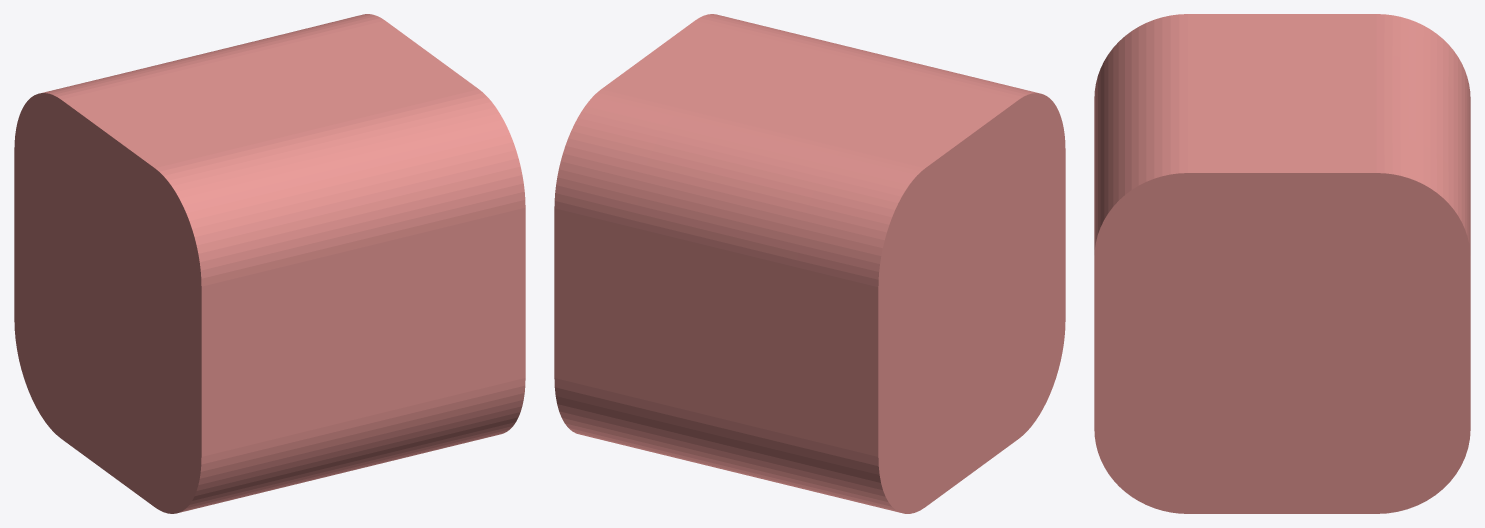
The model's file is taffy_body.dae.
The picture shows the model from 3 angles, left to right: view 1: azimuth 30°, elevation 25°; view 2: azimuth 150°, elevation 25°; view 3: azimuth 270°, elevation 25°; orthographic projection.
Parts seen in each view (by area): view 1: Cube; view 2: Cube; view 3: Cube.
Part boxes in pixels (x1,y1,x2,y2): Cube: (14, 14, 525, 513); Cube: (554, 14, 1065, 513); Cube: (1094, 14, 1470, 513).
Size of the model in its own units: 0.9367 by 0.9367 by 0.9367.
